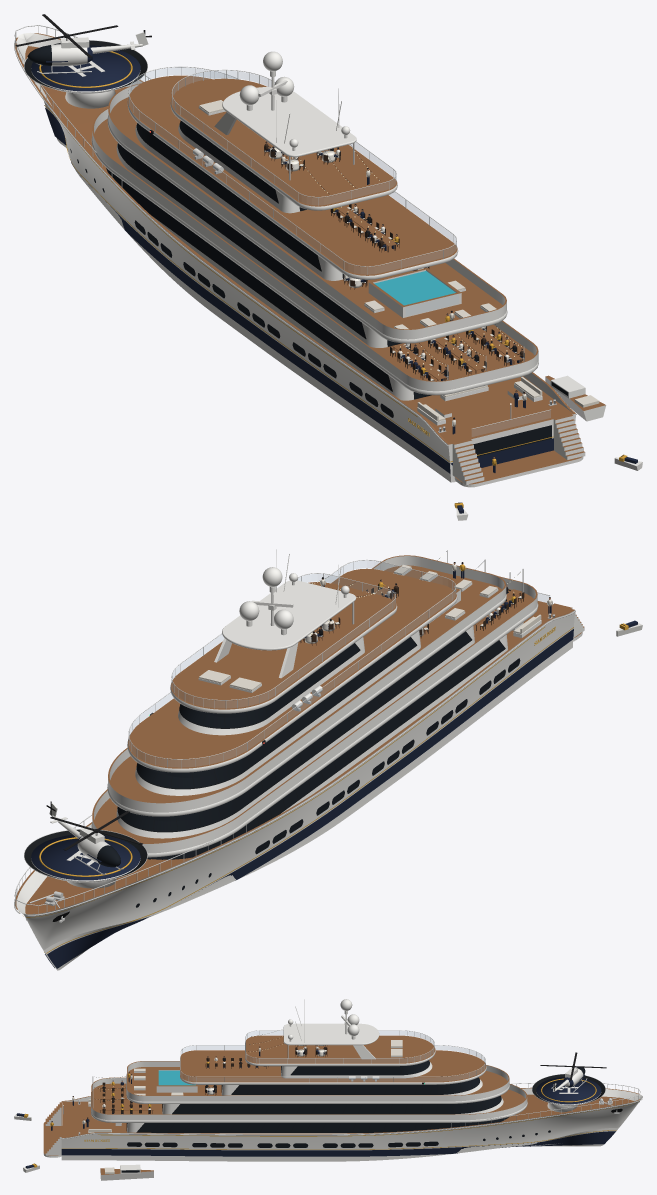
Rendered from boat.glb.
The picture shows the model from 3 angles, top to bottom: view 1: azimuth 30°, elevation 25°; view 2: azimuth 150°, elevation 25°; view 3: azimuth 270°, elevation 25°; orthographic projection. The views are drawn at different scales.
Visible parts, largest first — view 1: Boat; view 2: Boat; view 3: Boat.
Boxes of the visible parts, box(x1,y1,x2,y2) form: Boat: box(14, 14, 642, 520); Boat: box(14, 549, 642, 970); Boat: box(14, 999, 642, 1180).
Size of the model in its own units: 25.57 by 27.3 by 106.
